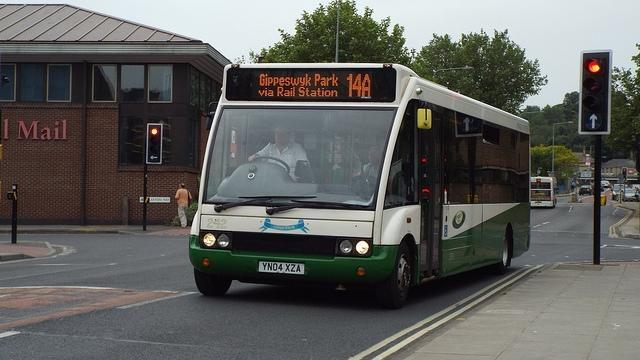bus: (188, 61, 532, 310)
car: (621, 188, 639, 202), (610, 184, 624, 200), (579, 185, 593, 195), (600, 181, 612, 188)
